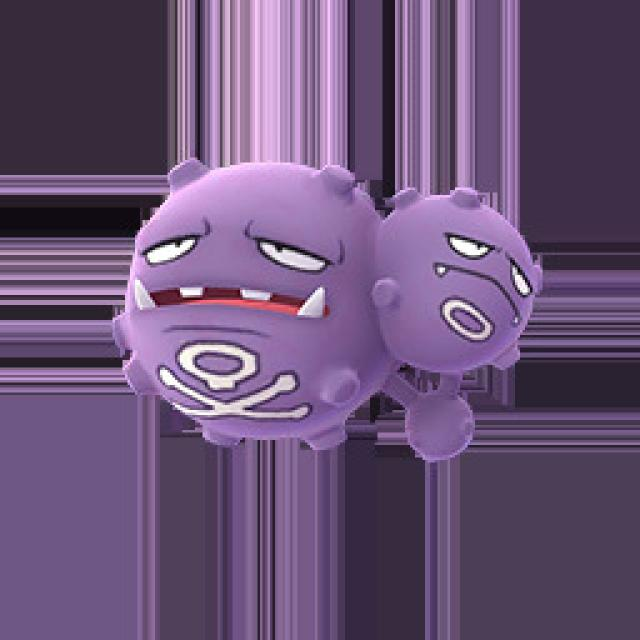Weezing: (110, 159, 548, 461)
